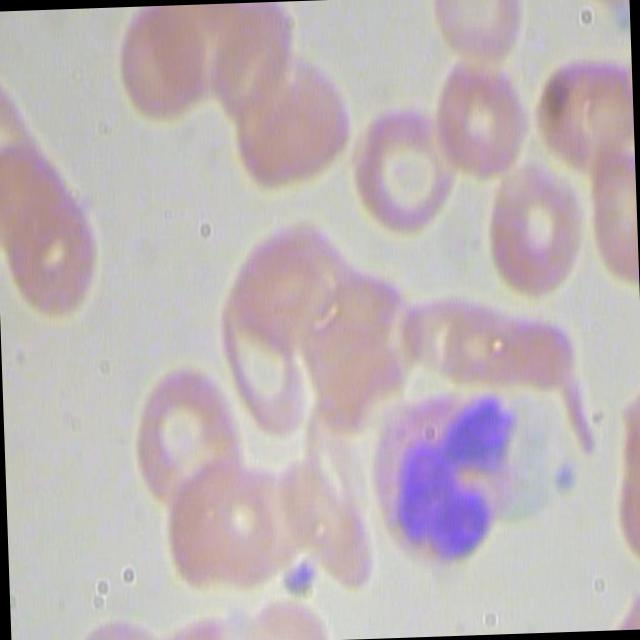Platelets: (278, 550, 317, 596), (547, 455, 579, 495)
RBC: (122, 362, 248, 508), (230, 50, 356, 196), (0, 176, 122, 323), (204, 296, 319, 441), (478, 160, 590, 300), (426, 48, 540, 185), (345, 99, 458, 236), (224, 218, 348, 342), (310, 256, 425, 386), (184, 450, 284, 588), (106, 4, 213, 130), (438, 292, 576, 388), (534, 42, 634, 172)
WBC: (365, 377, 529, 573)
